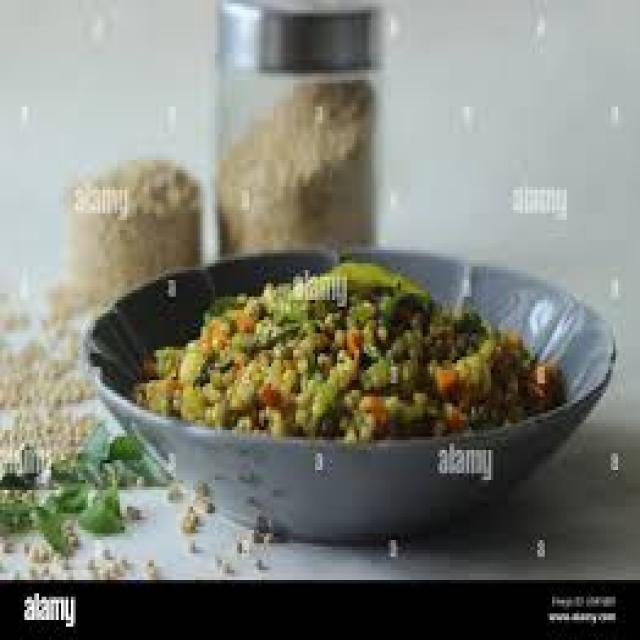UPMA: (132, 263, 557, 430)
